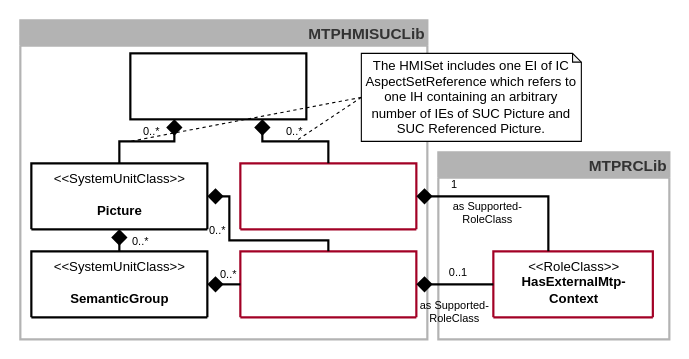
Some shapes in this 689 by 359 pixel diagram are drawn without their labels. The centre of each missing label's shape, as x and y in pixels:
<<SystemUnitClass>> HMISet: MTPSet: point 218,86
<<SystemUnitClass>> PictureFrame: Linked Object: point 328,284
<<SystemUnitClass>> ReferencedPicture: point 328,196
